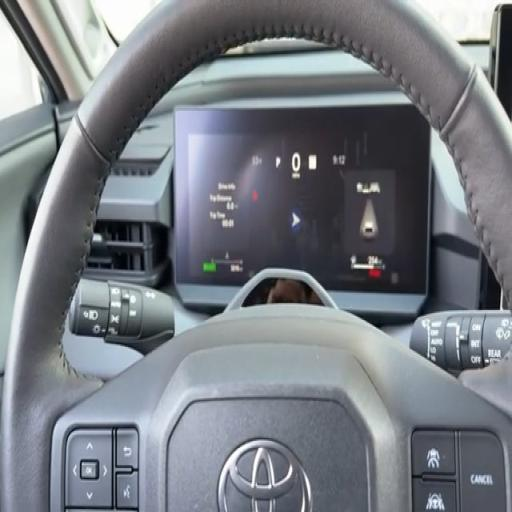emblem: (219, 440, 311, 511)
window: (0, 12, 42, 119)
windshield: (418, 0, 496, 41)
